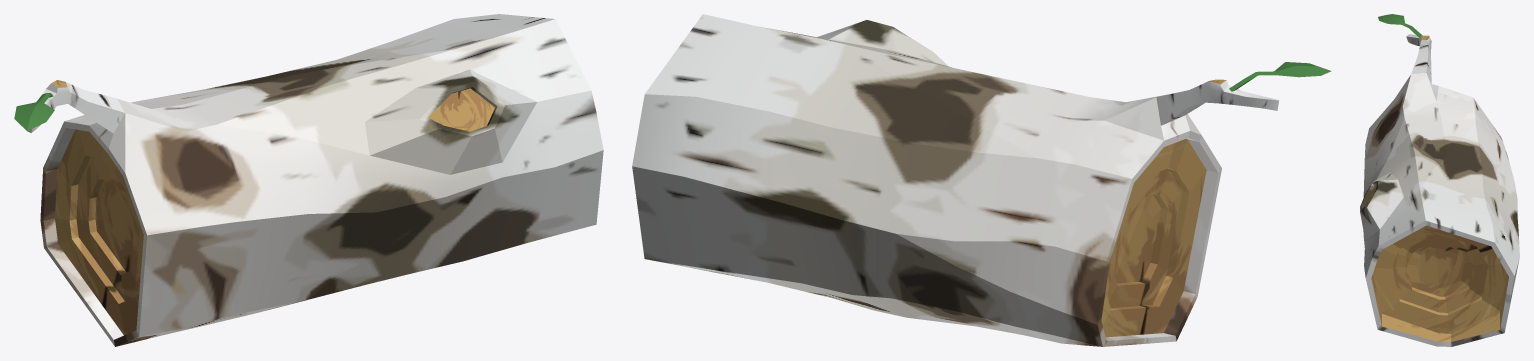
Rendered from Birch Log 2.obj.
3 renders of one model, left to right at view 1: azimuth 30°, elevation 25°; view 2: azimuth 150°, elevation 25°; view 3: azimuth 270°, elevation 25°, orthographic. The views are drawn at different scales.
Parts seen in each view (by area): view 1: polySurface3; view 2: polySurface3; view 3: polySurface3.
Boxes of the visible parts, x1,y1,x2,y2 form: polySurface3: (14,14,603,346); polySurface3: (632,14,1331,346); polySurface3: (1360,14,1519,346).
Bounding box in the file's own units: 86.34 × 41.61 × 34.18.
